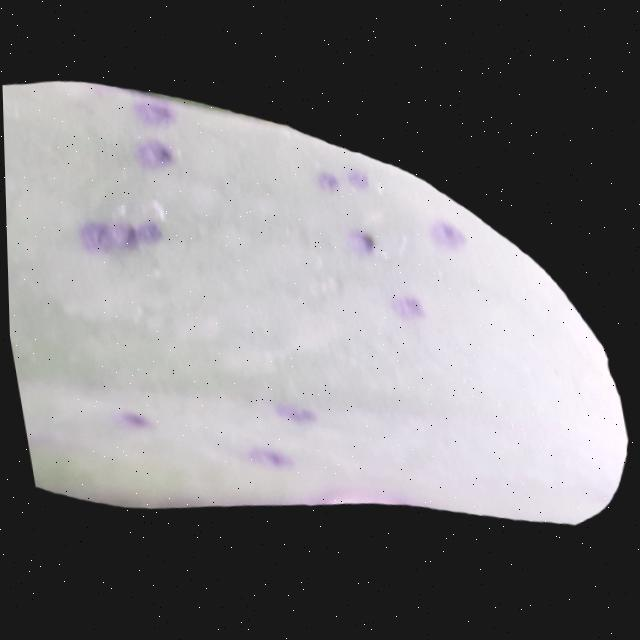mite: (46, 45, 502, 509), (311, 148, 480, 341), (56, 91, 202, 266), (230, 394, 327, 483), (312, 162, 386, 269), (123, 93, 188, 177), (313, 164, 373, 203), (129, 95, 180, 133), (131, 137, 177, 175), (128, 218, 165, 249), (345, 229, 377, 261), (344, 169, 371, 196), (315, 171, 341, 197), (357, 234, 376, 256)
sunburn: (2, 0, 639, 620)
